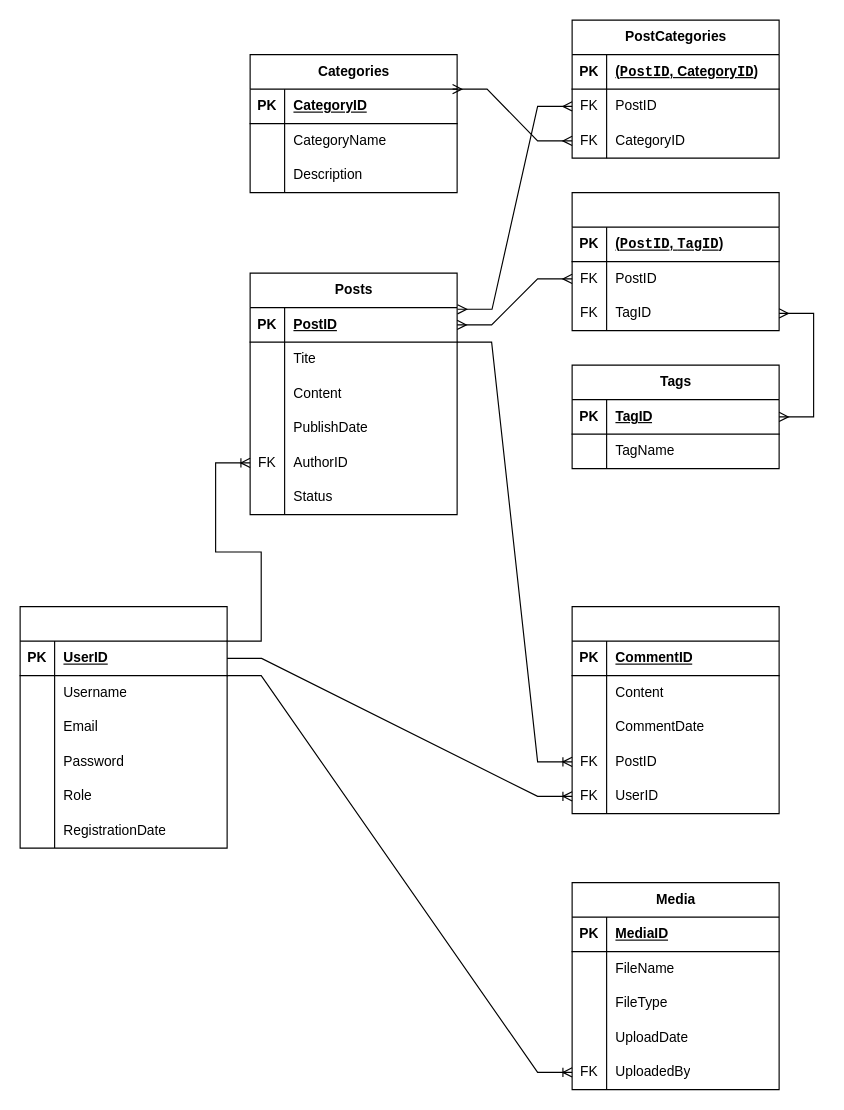
This 844x1110 diagram has some shape labels left out. Each missing label, with the box of its shape:
Comments: (571, 605, 779, 814)
PostTags: (571, 191, 779, 331)
Users: (19, 605, 227, 848)
